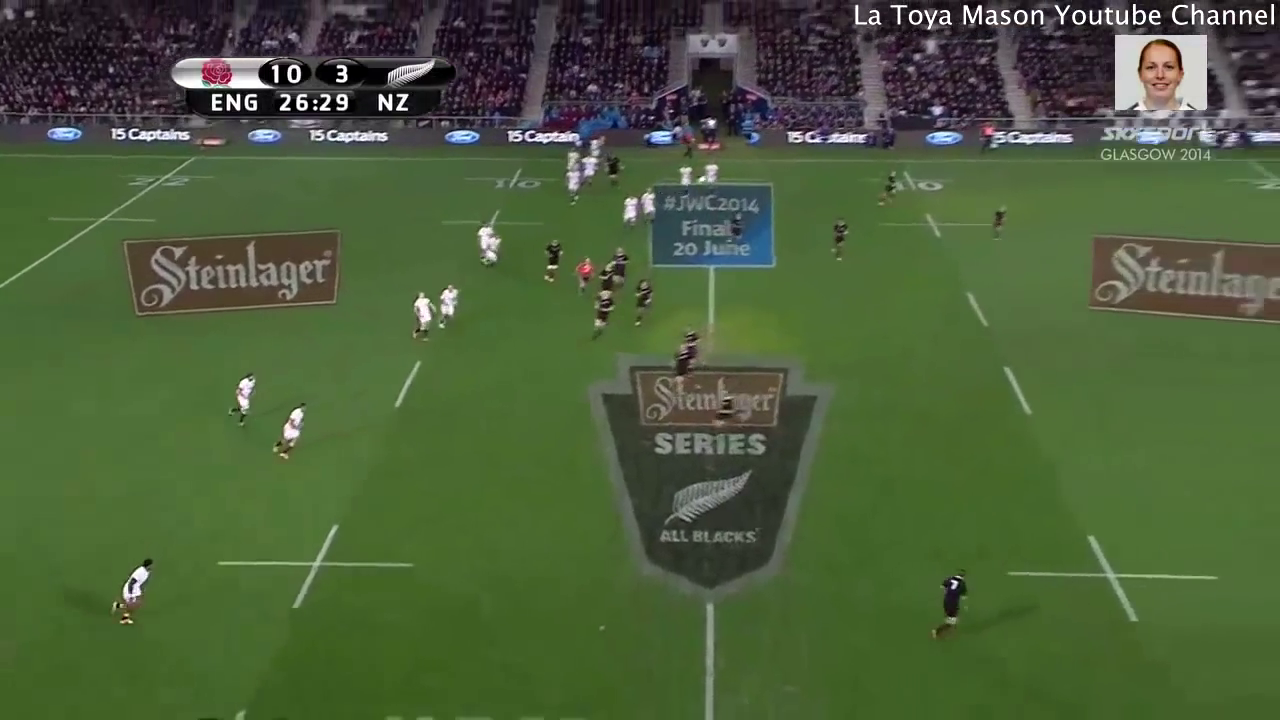10_metre: (1003, 528, 1228, 630), (214, 520, 417, 612), (877, 211, 1004, 241), (458, 165, 565, 196), (441, 208, 545, 239), (864, 169, 957, 196)
ball: (693, 172, 711, 186)
player: (104, 552, 157, 631), (267, 399, 307, 464), (224, 367, 258, 430), (585, 289, 620, 344), (667, 343, 697, 400), (407, 289, 436, 342), (630, 273, 656, 330), (435, 280, 463, 332), (710, 388, 736, 441), (829, 214, 853, 268), (607, 245, 631, 292), (681, 324, 706, 368), (572, 253, 598, 295), (542, 236, 565, 283), (559, 165, 581, 204), (578, 152, 601, 188), (617, 192, 637, 232), (592, 264, 620, 292), (637, 187, 658, 224), (601, 152, 622, 188), (725, 212, 746, 247), (482, 236, 503, 267), (475, 217, 493, 253), (700, 160, 719, 194), (676, 163, 693, 196), (563, 149, 580, 168)
